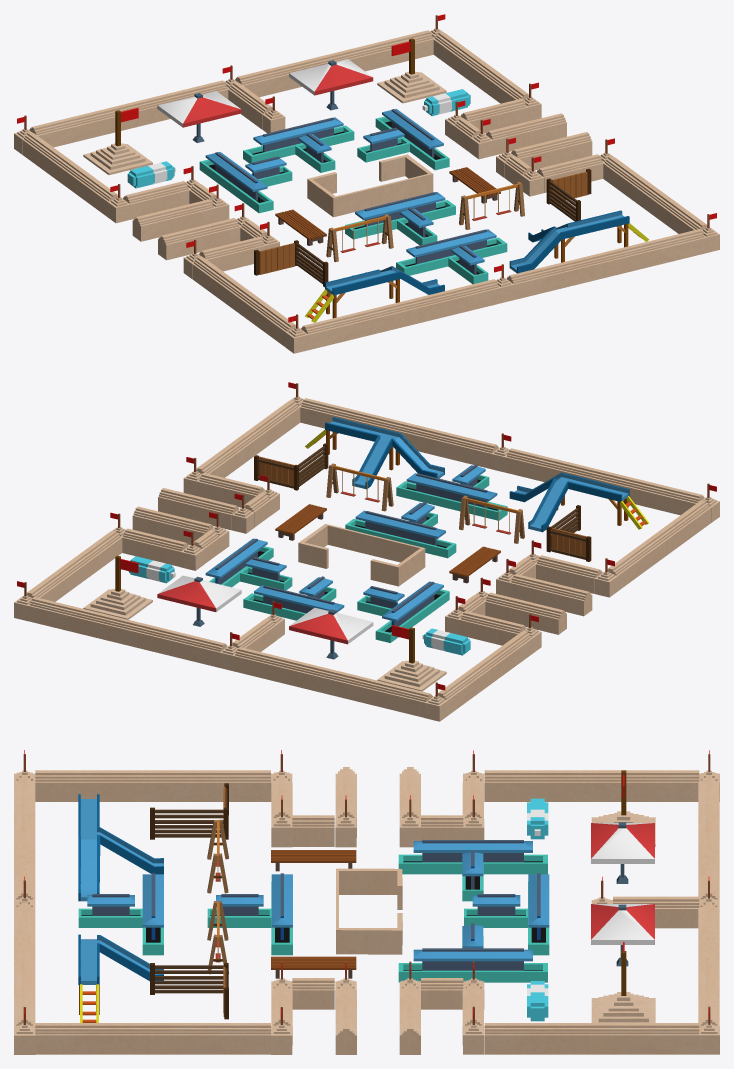
File: Beach_scene-1.fbx
The picture shows the model from 3 angles, top to bottom: view 1: azimuth 30°, elevation 25°; view 2: azimuth 150°, elevation 25°; view 3: azimuth 270°, elevation 25°; orthographic projection. The views are drawn at different scales.
Parts seen in each view (by area): view 1: pCube398; view 2: pCube398; view 3: pCube398.
Part boxes in pixels (left/top/right/bottom): pCube398: left=14, top=14, right=719, bottom=353; pCube398: left=14, top=382, right=719, bottom=721; pCube398: left=14, top=750, right=719, bottom=1054.
Size of the model in its own units: 29.16 by 3.26 by 33.03.
